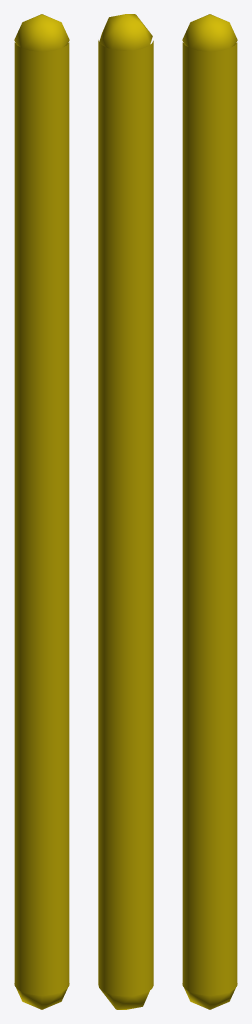
3 renders of one model, left to right at view 1: azimuth 90°, elevation 25°; view 2: azimuth 150°, elevation 25°; view 3: azimuth 270°, elevation 25°, orthographic.
Parts seen in each view (by area): view 1: Node; view 2: Node; view 3: Node.
Boxes of the visible parts, bbox=[...] form: Node: bbox=[14, 14, 69, 1009]; Node: bbox=[98, 14, 153, 1009]; Node: bbox=[182, 14, 237, 1009].
Size of the model in its own units: 0.0925 by 1.83 by 0.0925.
